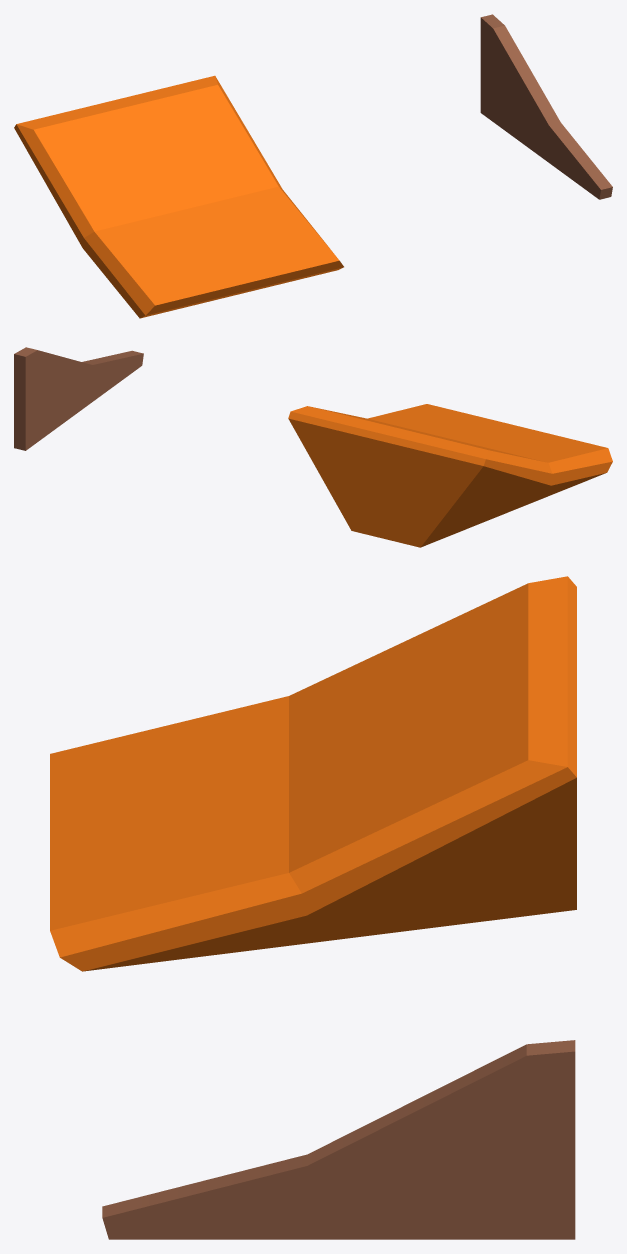
Rendered from outsideElements.FBX.
3 views of the same model, one above another, from view 1: azimuth 30°, elevation 25°; view 2: azimuth 150°, elevation 25°; view 3: azimuth 270°, elevation 25° (orthographic). The views are drawn at different scales.
Parts seen in each view (by area): view 1: OutSideRoofTile, OutSide-RoofOverHang; view 2: OutSideRoofTile, OutSide-RoofOverHang; view 3: OutSideRoofTile, OutSide-RoofOverHang.
Boxes of the visible parts, bbox=[...] form: OutSideRoofTile: bbox=[14, 75, 343, 318]; OutSide-RoofOverHang: bbox=[480, 14, 612, 199]; OutSideRoofTile: bbox=[288, 404, 612, 547]; OutSide-RoofOverHang: bbox=[14, 347, 143, 450]; OutSideRoofTile: bbox=[50, 576, 576, 971]; OutSide-RoofOverHang: bbox=[102, 1040, 575, 1239].
Bounding box in the file's own units: 2.41 × 0.5 × 1.17.
